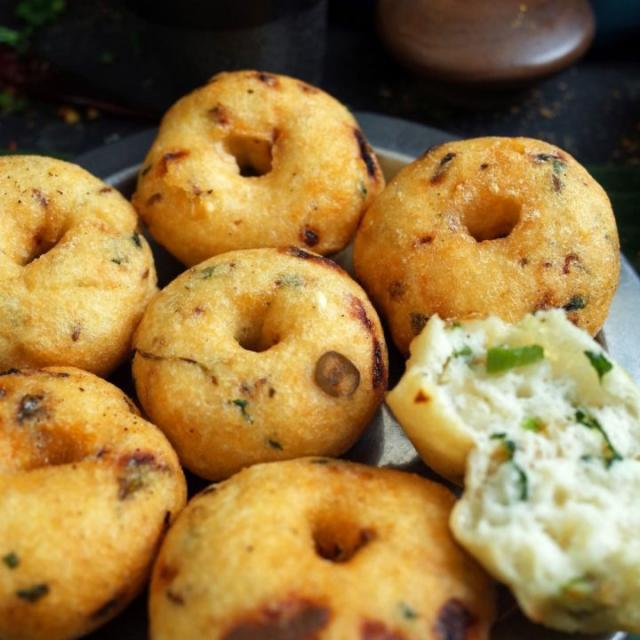Vada: (145, 458, 507, 640), (130, 247, 393, 485), (352, 137, 621, 356), (0, 368, 190, 640), (129, 70, 386, 270), (0, 156, 160, 382)
